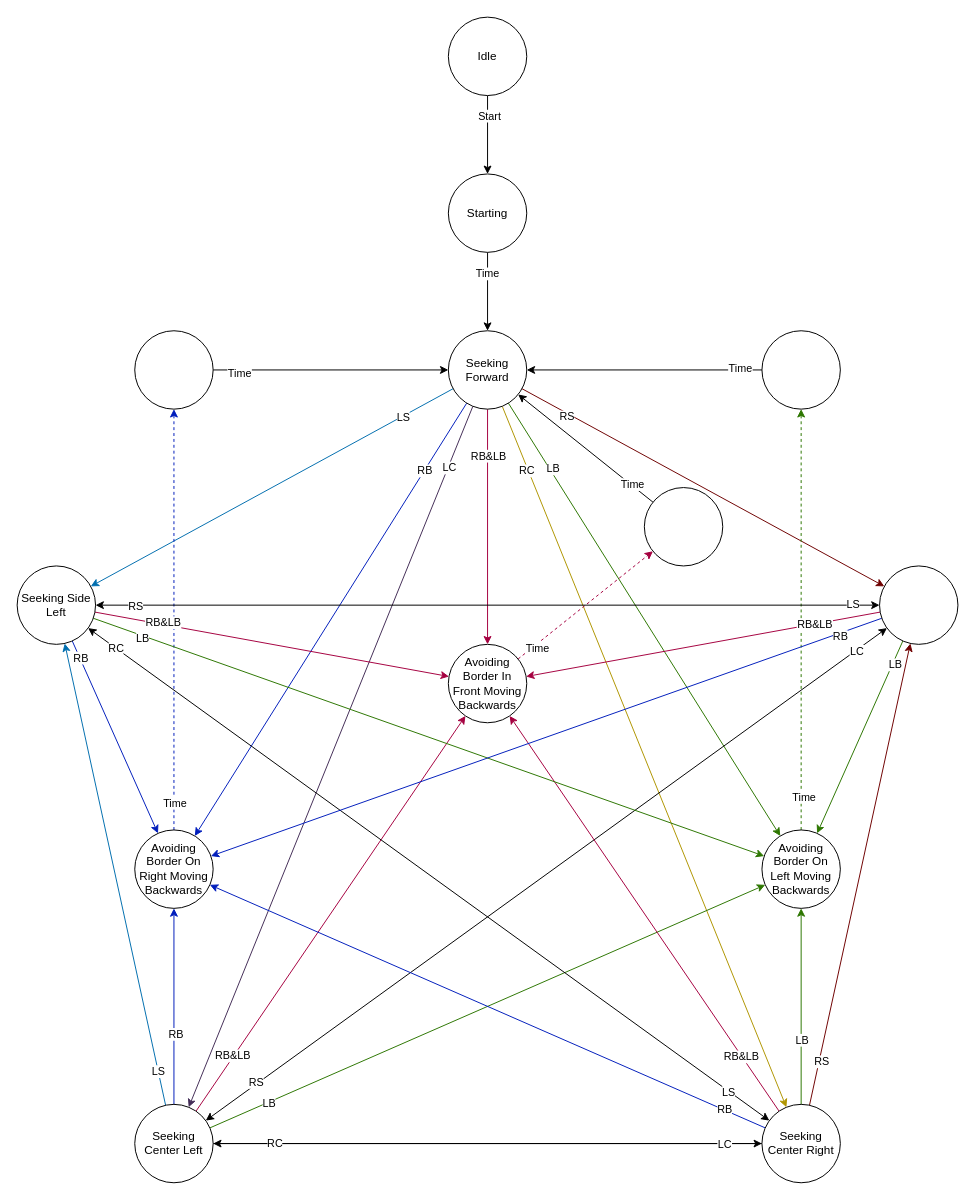
Some shapes in this 975 by 1201 pixel diagram are drawn without their labels. The shapes that lost their labels are listed below. From the top down, each one's centre as x and y in pixels, then its label:
At point (173, 369): "Avoiding Border On Right Turning".
At point (800, 369): "Avoiding Border On Left Turning".
At point (683, 526): "Avoiding Border In Front Turning".
At point (918, 604): "Seeking Side Right".
